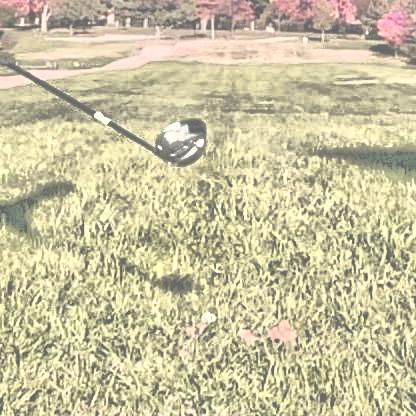golfball: (198, 307, 215, 321)
